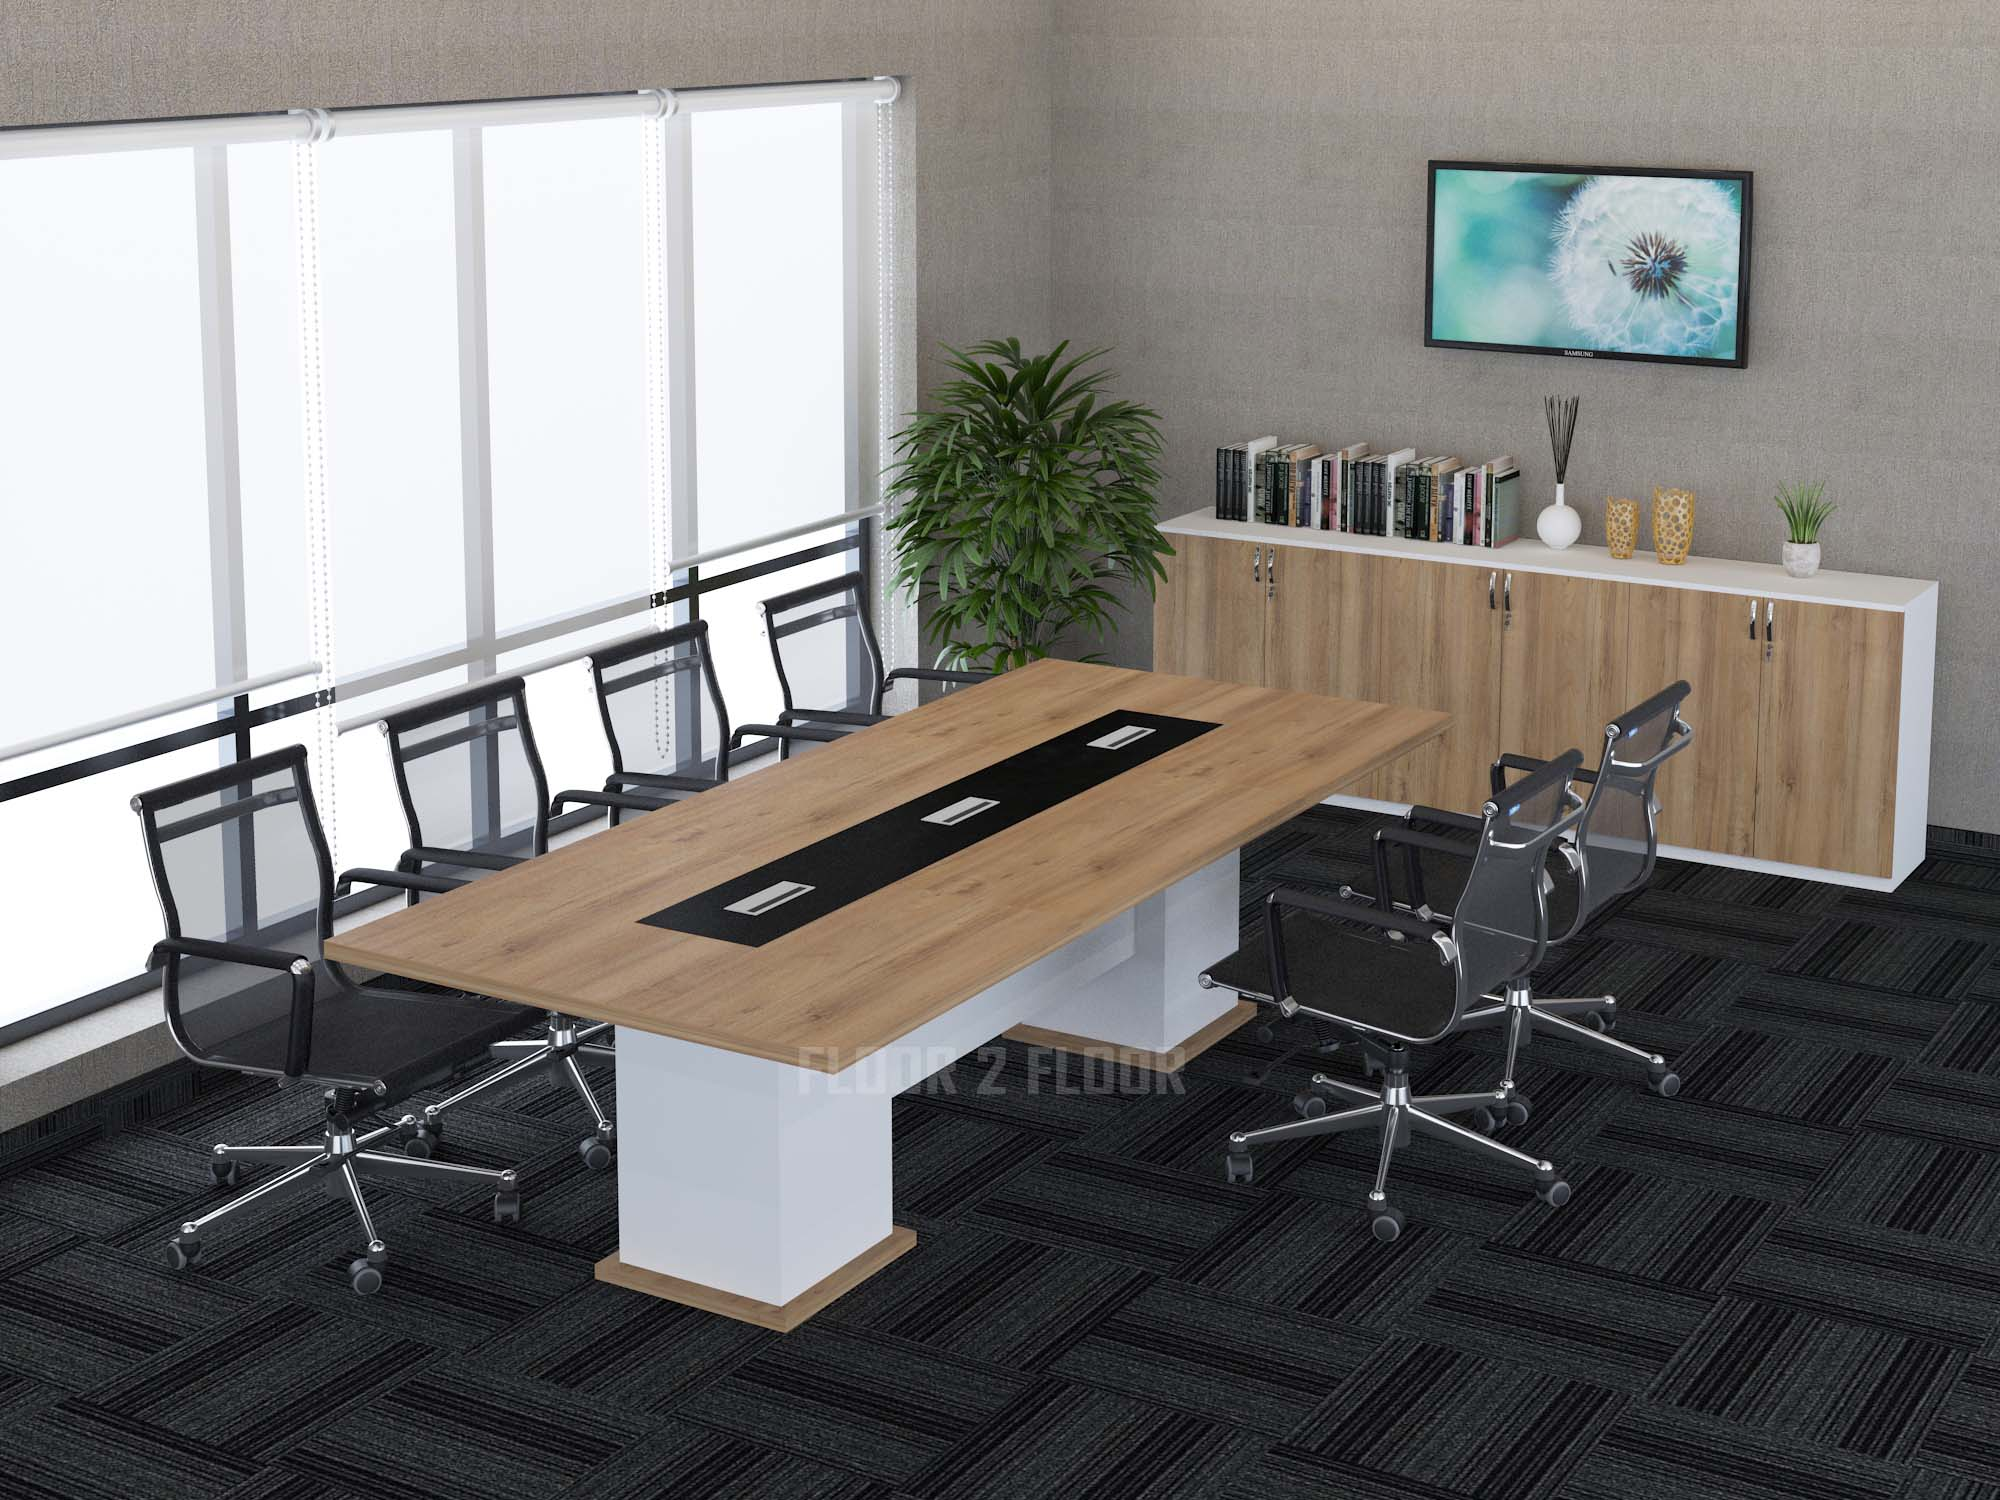conference_table: (331, 657, 1450, 1337)
